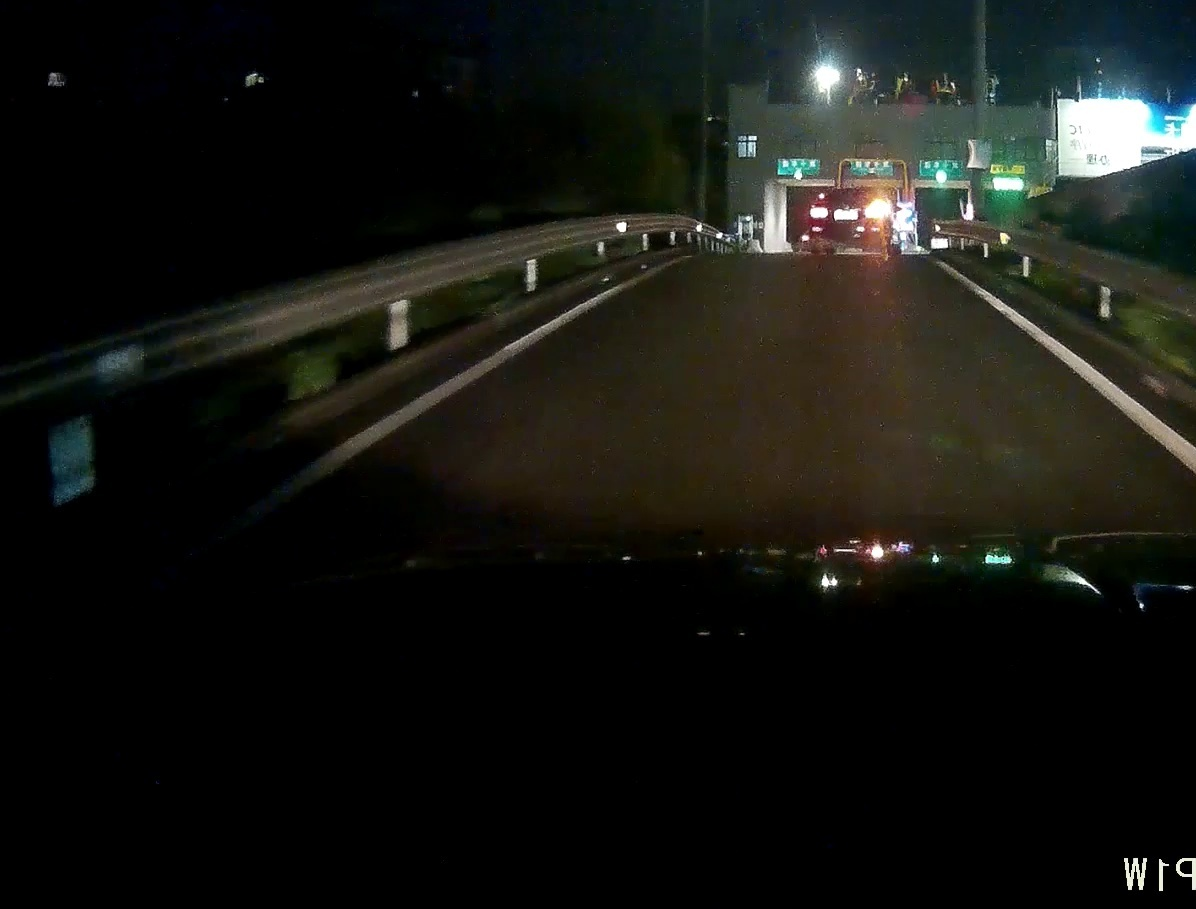L_light: (810, 208, 828, 218)
R_light: (865, 208, 885, 218)
T_light: (846, 188, 860, 192)
night-right: (809, 186, 889, 252)
